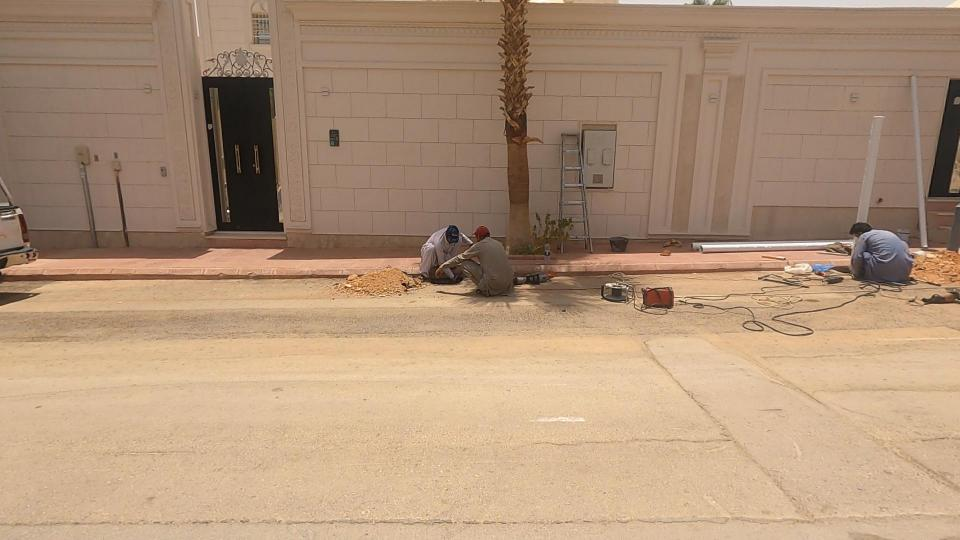GARBAGE: (728, 239, 874, 299)
SAND_ON_ROAD: (308, 237, 453, 318)
